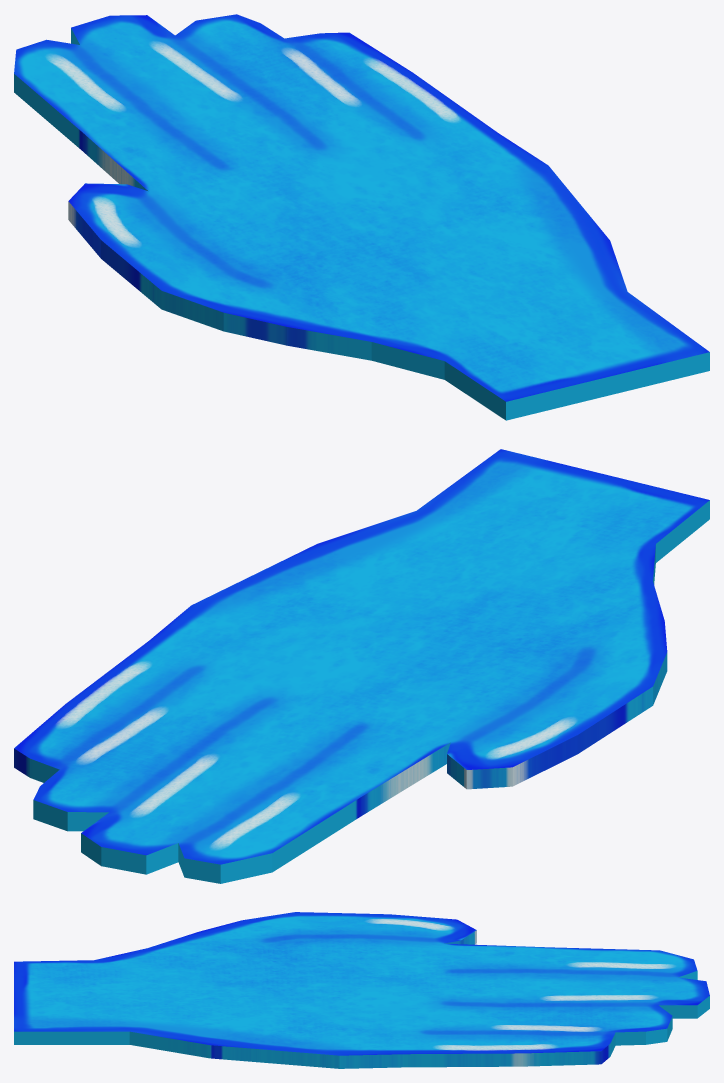
The model's file is guante.fbx.
3 views of the same model, one above another, from view 1: azimuth 30°, elevation 25°; view 2: azimuth 150°, elevation 25°; view 3: azimuth 270°, elevation 25° (orthographic). The views are drawn at different scales.
Visible parts, largest first — view 1: Plane; view 2: Plane; view 3: Plane.
Boxes of the visible parts, box(x1,y1,x2,y2) form: Plane: box(14, 14, 709, 420); Plane: box(14, 449, 709, 883); Plane: box(14, 912, 709, 1068).
Size of the model in its own units: 9.5 by 0.4081 by 19.45.
